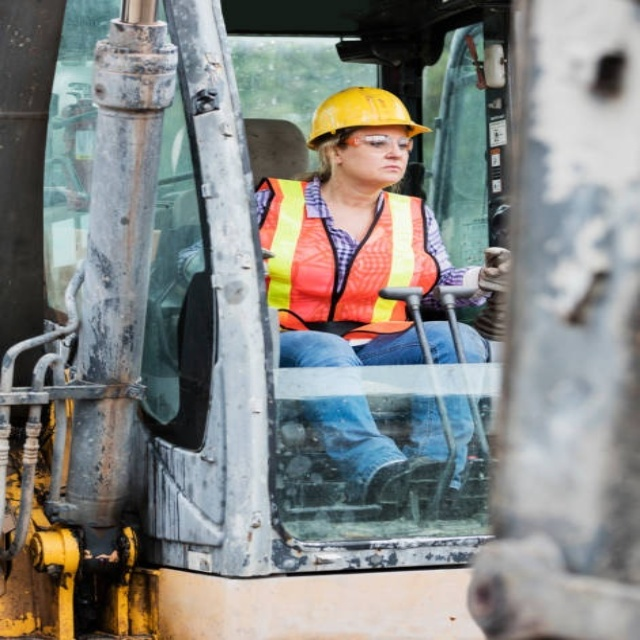Gafas: (344, 133, 416, 153)
Guantes: (472, 246, 514, 288)
Sin_mascara: (368, 160, 410, 183)
